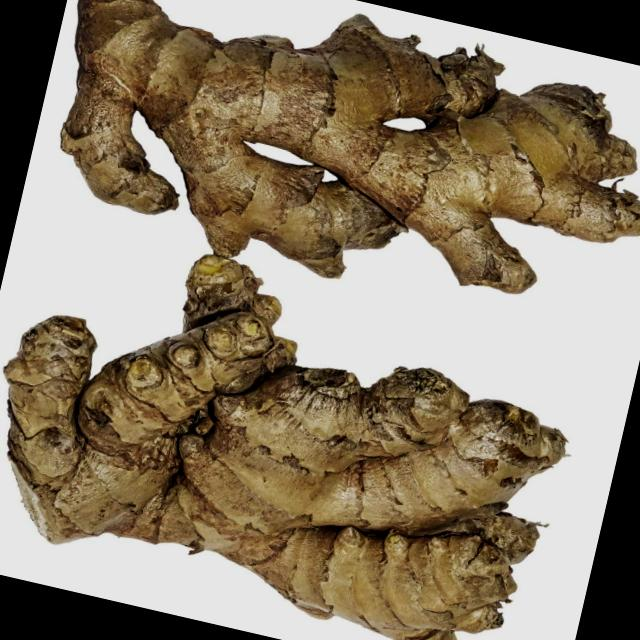ginger-root: (0, 209, 611, 640), (22, 0, 640, 355)
